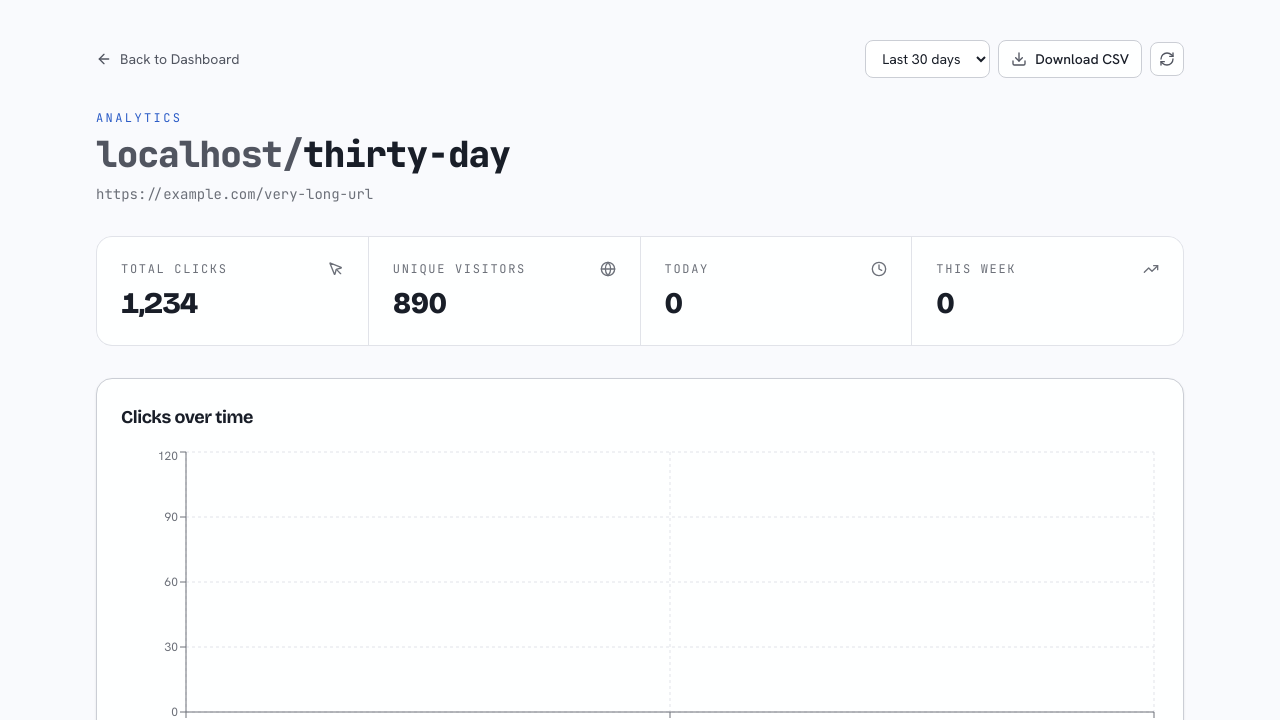
Test: Analytics Page › Time Range Filter › ignores a slower response for a previous time range
Expected: the text "thirty-day" is shown, [303,130,510,178]
Select "Last 7 days" in the dropdown named "Time range" at [928, 59], box [865,40,990,78]
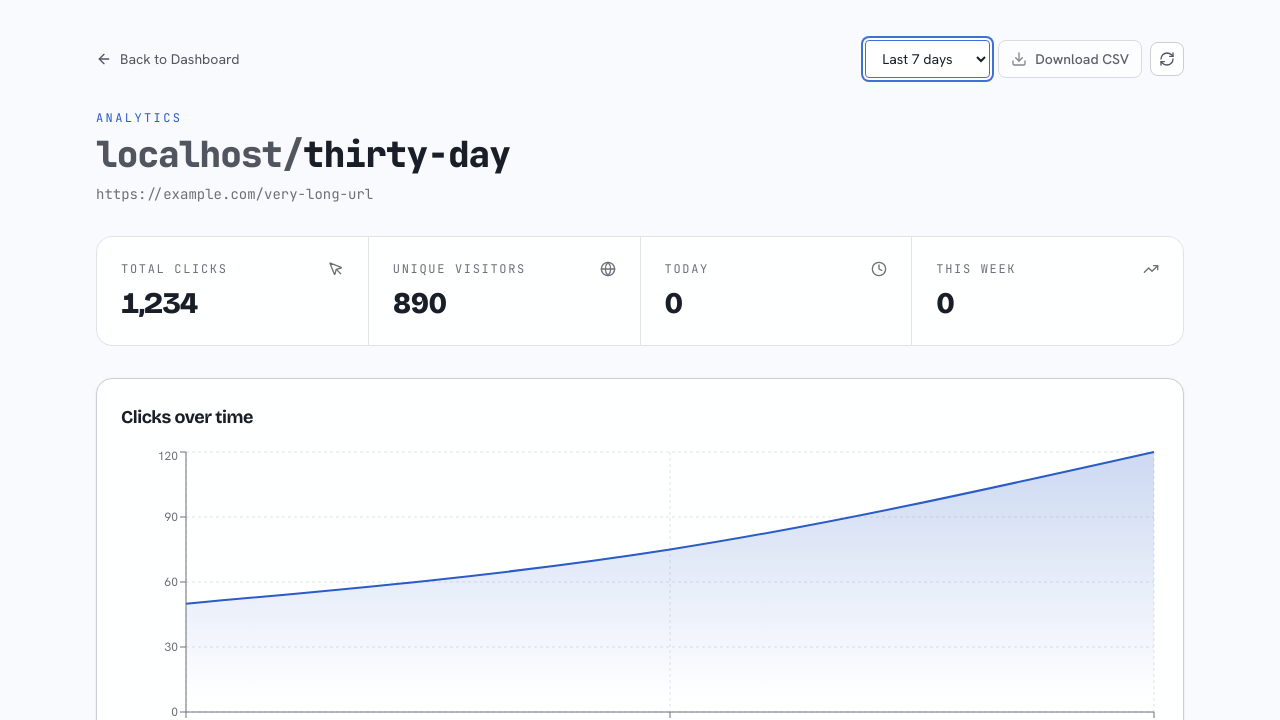
Select "Last 90 days" in the dropdown named "Time range" at [928, 59], box [865,40,990,78]
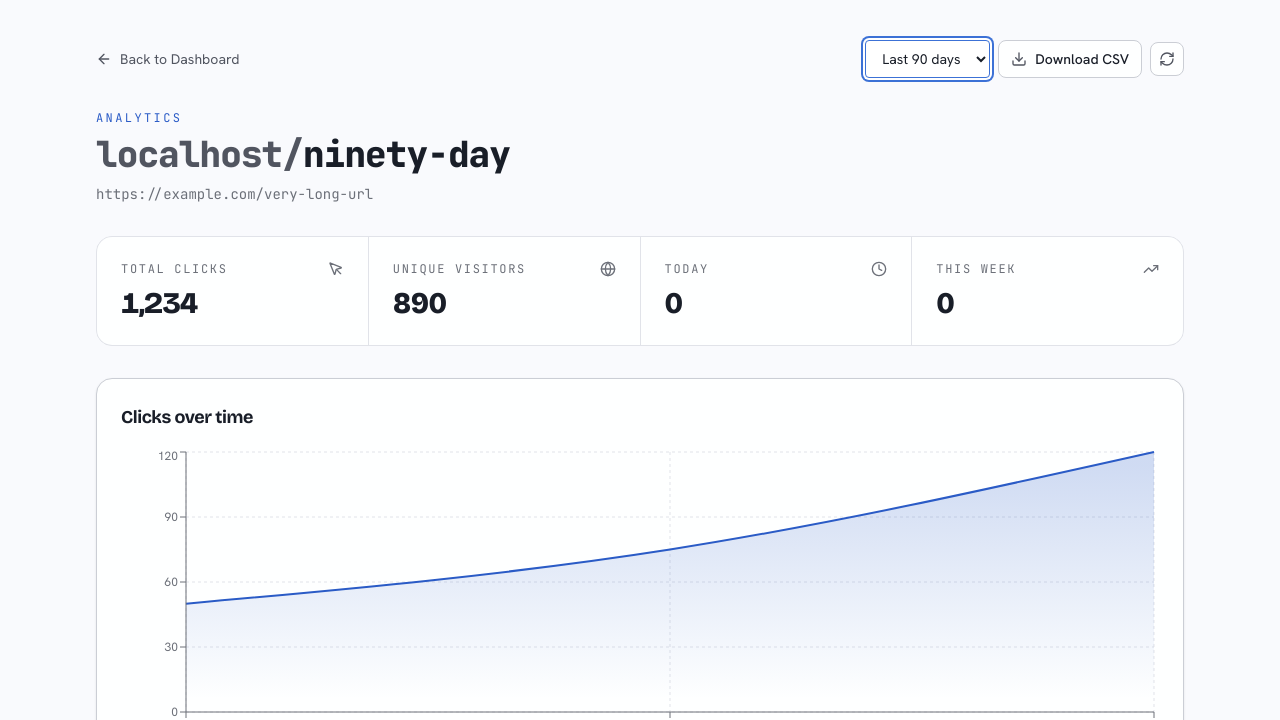
Expected: the text "ninety-day" is shown, [303,130,510,178]
